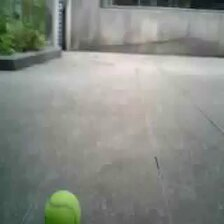tennis: (43, 190, 81, 224)
